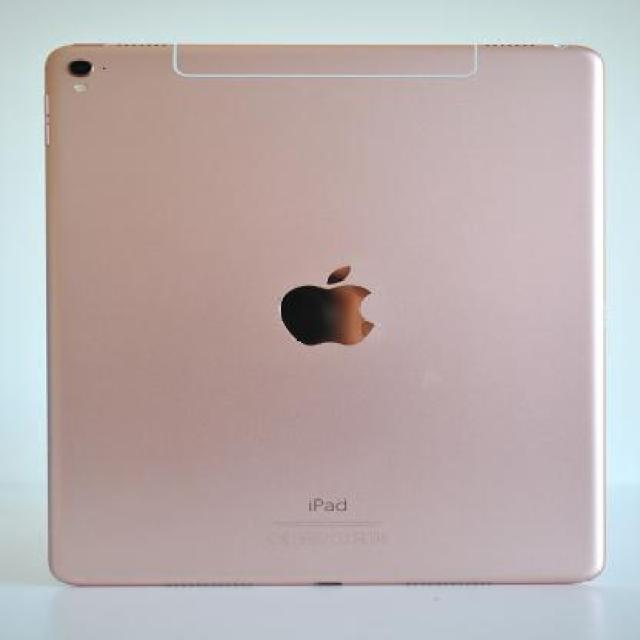tablet: (24, 13, 636, 640)
